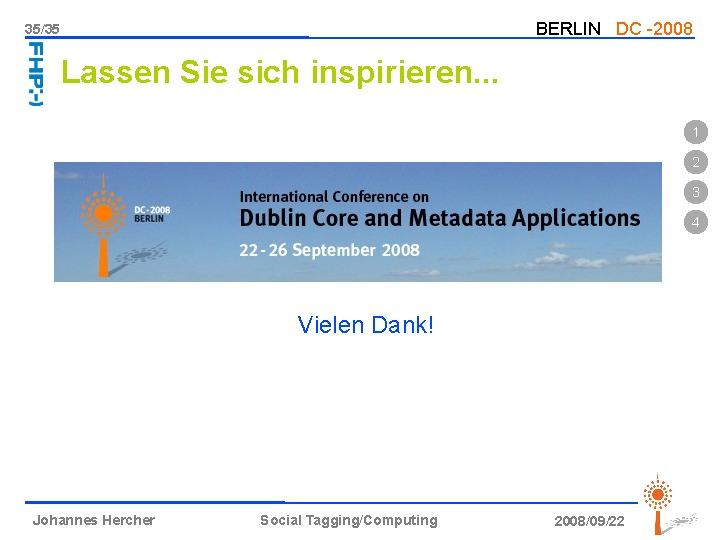subtitle: (26, 505, 635, 540), (55, 53, 544, 96), (285, 297, 445, 344)
title: (222, 177, 655, 273), (533, 14, 704, 40)
